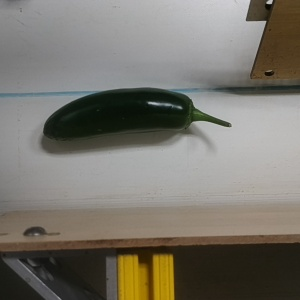Cut Point: (173, 91, 201, 132)
